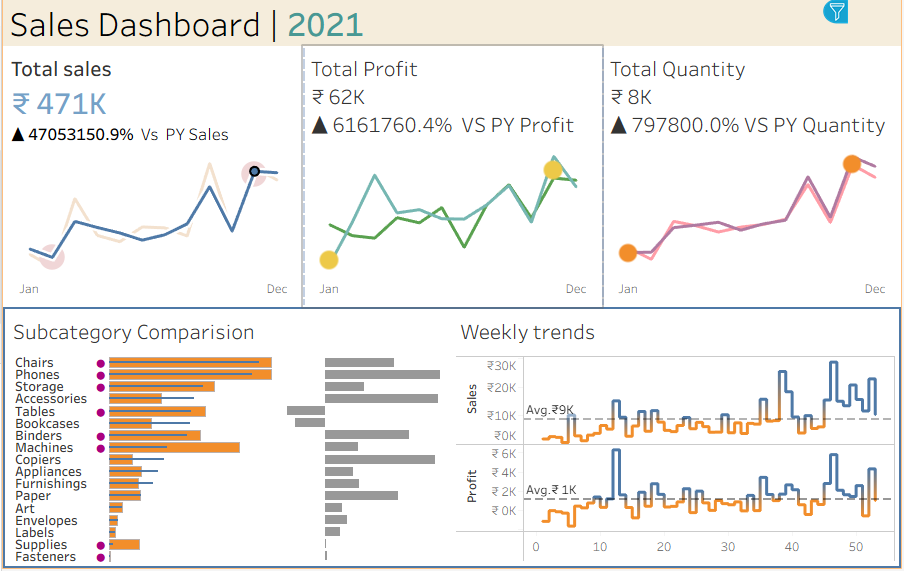

This screenshot's page, from the dashboard's own definition file:
{"tool":"tableau","page":{"name":"Sales Dashboard","canvas":[900,570],"ordinal":0},"visuals":[{"type":"text","box":[1,1,898,46]},{"type":"worksheet","title":"KPI Sales","mark":"Automatic","rows":["Calculation_1962410751569950"],"cols":["Order Date"],"box":[1,47,300,261]},{"type":"worksheet","title":"KPI Profit","mark":"Automatic","rows":["Calculation_1962410823327775"],"cols":["Order Date"],"box":[301,47,299,261]},{"type":"worksheet","title":"KPI Quantity","mark":"Automatic","rows":["Calculation_1962410824069152"],"cols":["Order Date"],"box":[600,47,299,261]},{"type":"text","box":[654,54,238,47]},{"type":"parameter","param":"[Parameters].[Parameter 1962410554286083]","box":[654,101,238,52]},{"type":"text","box":[654,153,238,30]},{"type":"filter","title":"KPI Sales","param":"[federated.0a7314c0w77k6t17b0nui1msdp0d].[none:Category:nk]","box":[654,183,238,52]},{"type":"filter","title":"KPI Sales","param":"[federated.0a7314c0w77k6t17b0nui1msdp0d].[none:Sub-Category:nk]","box":[654,235,238,52]},{"type":"text","box":[654,287,238,30]},{"type":"worksheet","title":"Subcategory Comparision","mark":"Bar","rows":["Sub-Category","Calculation_1962410749014043"],"cols":["Calculation_1962410563858444","Calculation_1962410556276742","Calculation_1962410557132807"],"box":[3,310,447,257]},{"type":"worksheet","title":"Weekly trends","mark":"Automatic","rows":["Calculation_1962410556276742","Calculation_1962410557132807"],"cols":["Order Date"],"box":[450,310,447,257]},{"type":"filter","title":"KPI Sales","param":"[federated.0a7314c0w77k6t17b0nui1msdp0d].[none:Region:nk]","box":[654,317,238,52]},{"type":"filter","title":"KPI Sales","param":"[federated.0a7314c0w77k6t17b0nui1msdp0d].[none:State:nk]","box":[654,369,238,52]},{"type":"filter","title":"KPI Sales","param":"[federated.0a7314c0w77k6t17b0nui1msdp0d].[none:City:nk]","box":[654,421,238,52]}]}

Visuals, with their boxes in screenshot pixels (x1, y1, x2, y2), scaled from the page's 900x570 canvas onto the 904x571 screenshot:
text: box=[1, 1, 903, 47]
"KPI Sales" worksheet: box=[1, 47, 302, 309]
"KPI Profit" worksheet: box=[302, 47, 603, 309]
"KPI Quantity" worksheet: box=[603, 47, 903, 309]
text: box=[657, 54, 896, 101]
parameter: box=[657, 101, 896, 153]
text: box=[657, 153, 896, 183]
"KPI Sales" filter: box=[657, 183, 896, 235]
"KPI Sales" filter: box=[657, 235, 896, 288]
text: box=[657, 288, 896, 318]
"Subcategory Comparision" worksheet (Bar marks): box=[3, 311, 452, 568]
"Weekly trends" worksheet: box=[452, 311, 901, 568]
"KPI Sales" filter: box=[657, 318, 896, 370]
"KPI Sales" filter: box=[657, 370, 896, 422]
"KPI Sales" filter: box=[657, 422, 896, 474]
